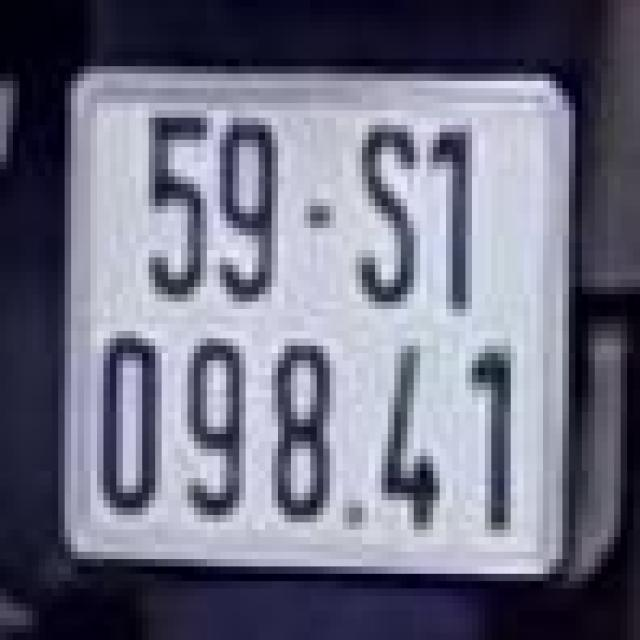0: (94, 316, 165, 530)
1: (417, 103, 482, 316), (462, 331, 520, 544)
4: (372, 324, 443, 537)
5: (133, 96, 210, 302)
8: (262, 331, 339, 530)
9: (216, 103, 288, 309), (181, 324, 252, 522)
S: (352, 110, 417, 324)
